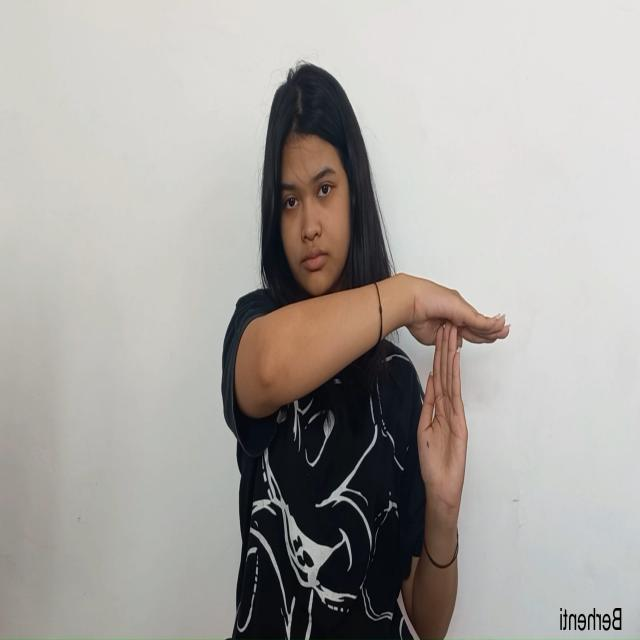Berhenti -BISINDO-: (388, 271, 512, 523)
